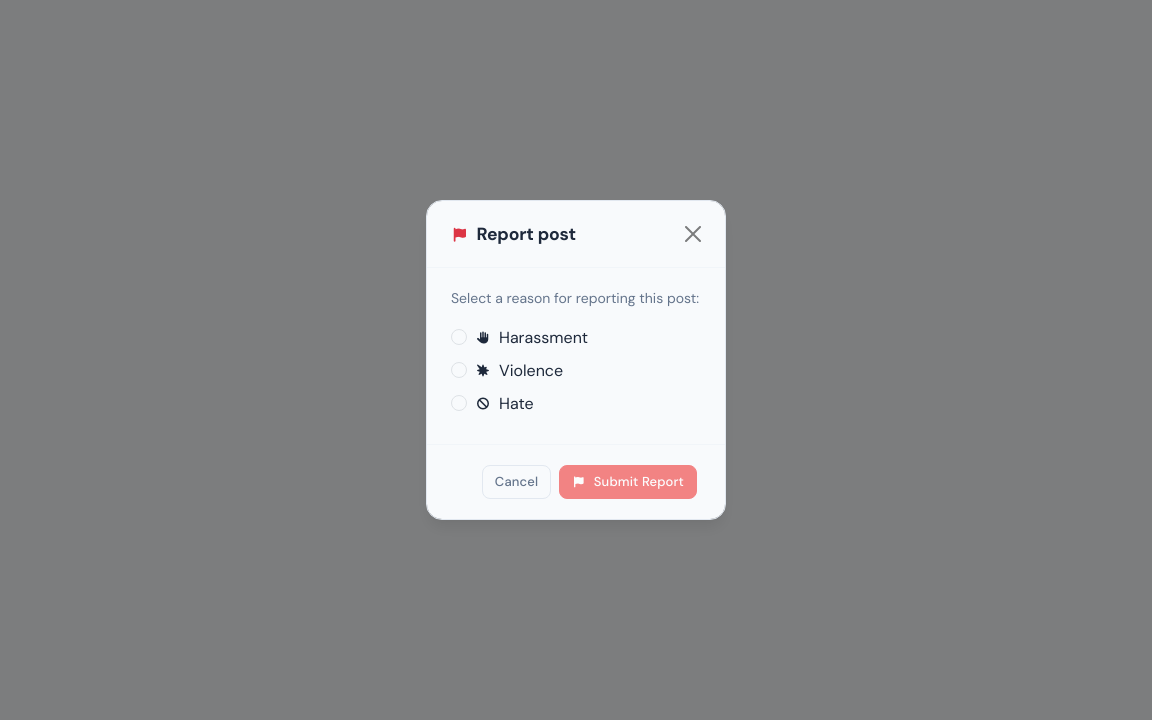
ReportModal › shows error message when createReport fails
The width and height of the screenshot is (1152, 720).
Click the radio button labelled "Harassment": (459, 337) x1=451 y1=329 x2=467 y2=345
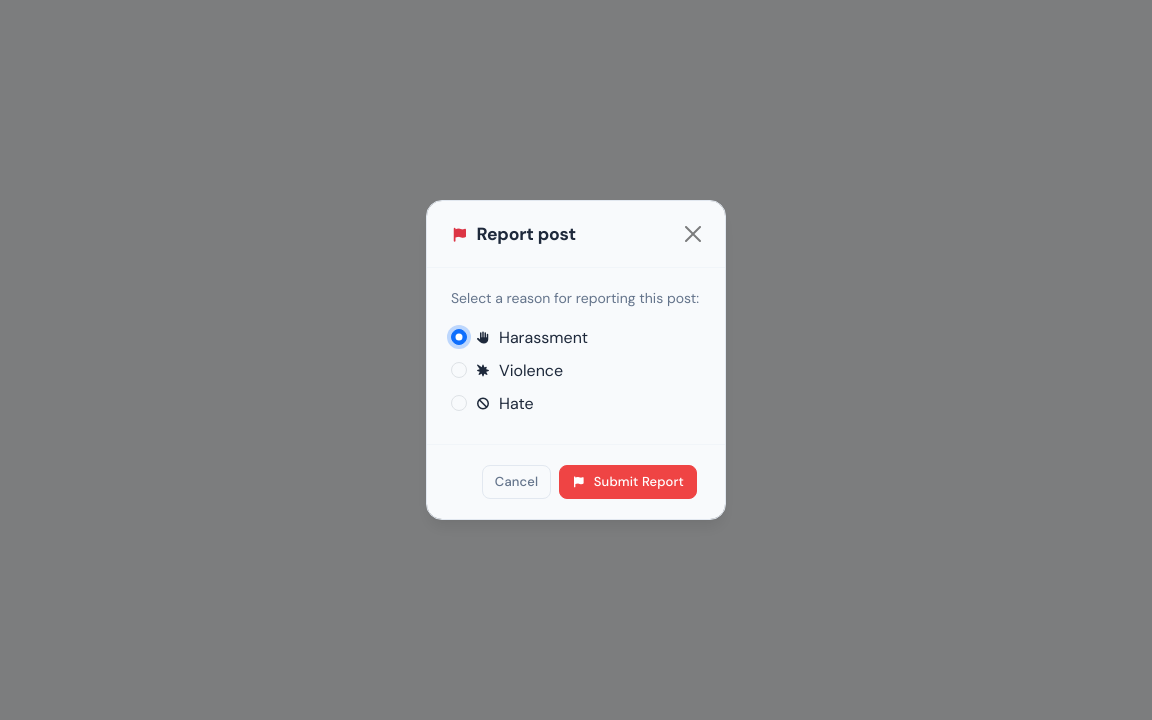
Click the button "Submit Report": (628, 482) x1=559 y1=465 x2=697 y2=499
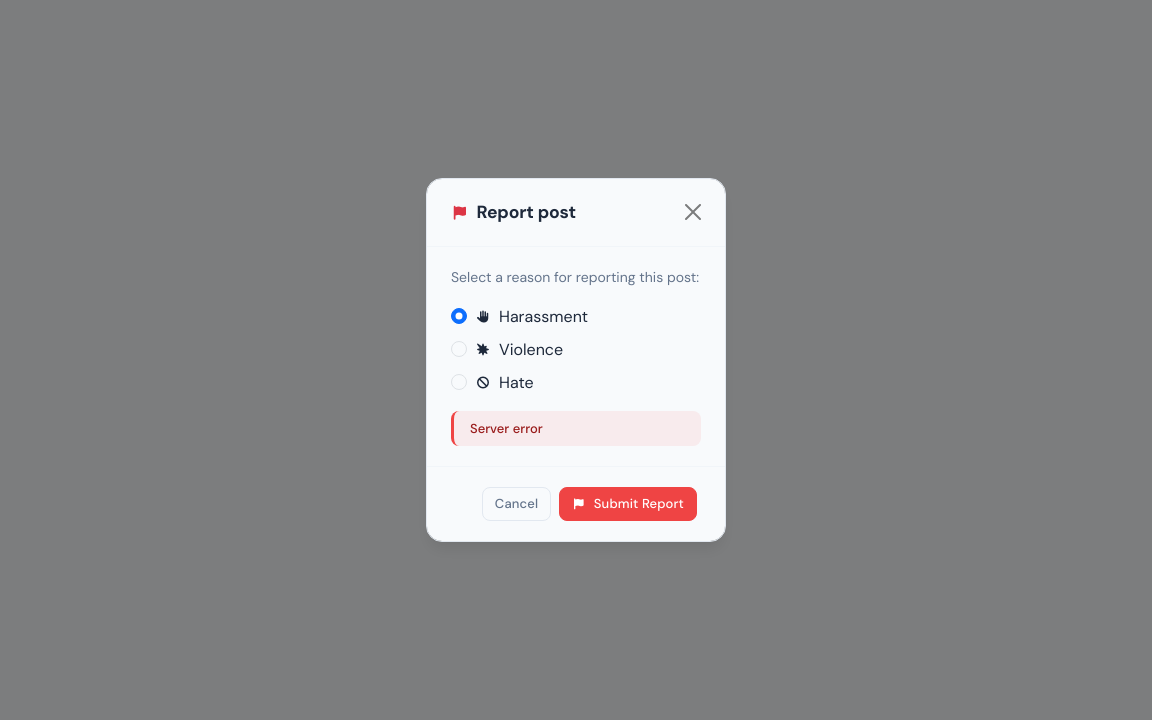
Now the text "Server error" is shown, box x1=451 y1=411 x2=701 y2=446
